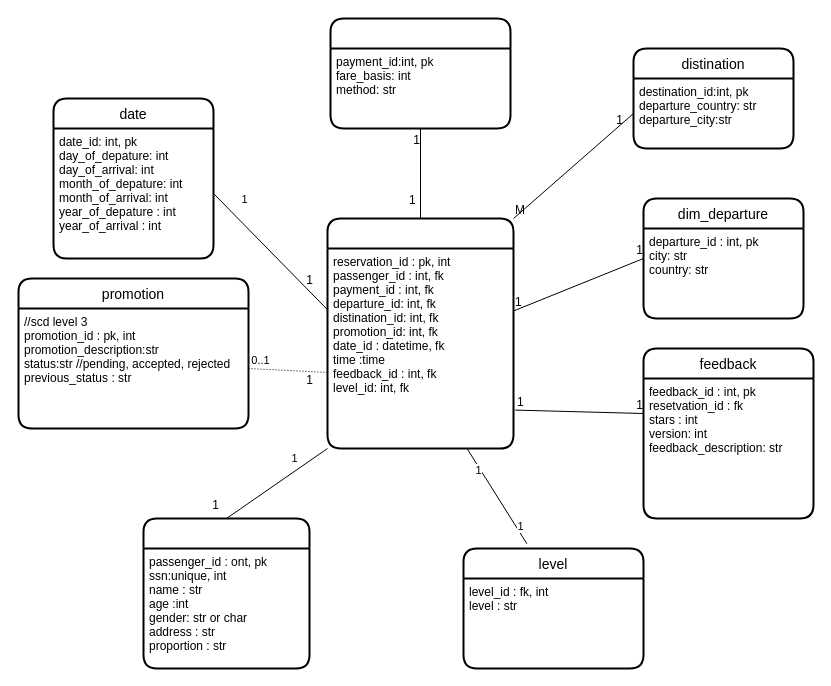
The diagram is 831 pixels wide and 686 high, and some of its shapes have lost their labels. Here are the shapes that lost their labels. From the top down, the box of each, then its label:
(329, 17, 511, 129): dim_payment
(326, 217, 514, 449): fact_reservation
(142, 517, 310, 669): dim_passenger
